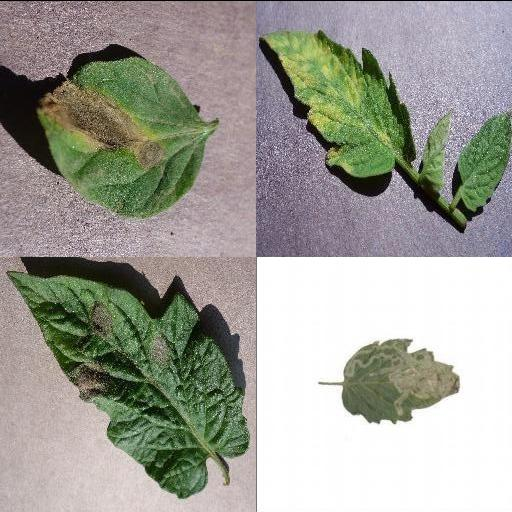Early Blight: (36, 55, 212, 221)
Healthy: (454, 110, 512, 212)
Late Blight: (6, 270, 250, 496)
Leaf Miner: (341, 335, 461, 424)
Leaf Mold: (258, 28, 418, 176)
